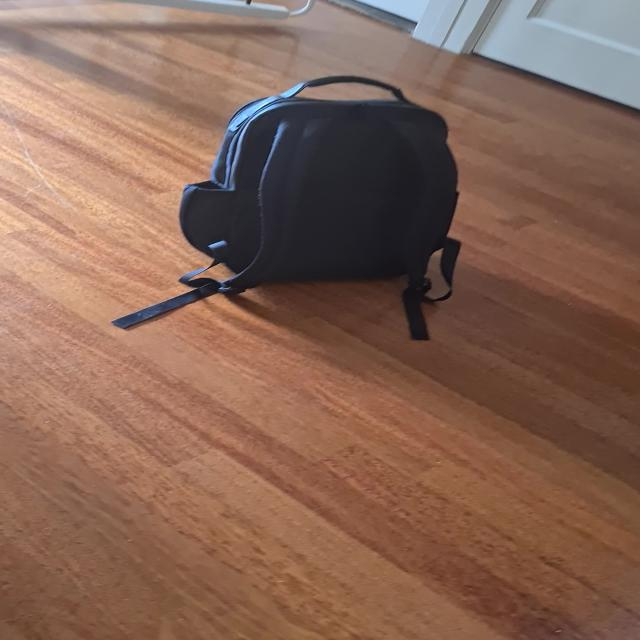backpack: (168, 68, 468, 293)
